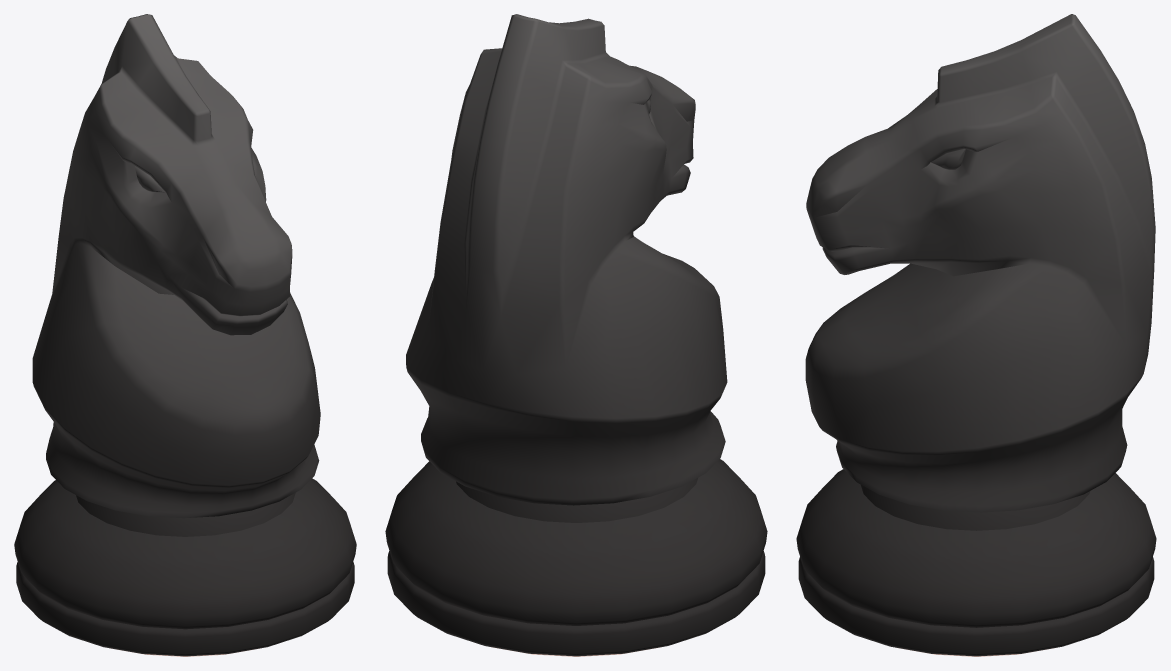
The model's file is Chess_Black_Hoss_01.fbx.
3 views of the same model, side by side, from view 1: azimuth 30°, elevation 25°; view 2: azimuth 150°, elevation 25°; view 3: azimuth 270°, elevation 25° (orthographic). The views are drawn at different scales.
Visible parts, largest first — view 1: Chess_Black_Hoss_01; view 2: Chess_Black_Hoss_01; view 3: Chess_Black_Hoss_01.
Boxes of the visible parts, x1,y1,x2,y2 form: Chess_Black_Hoss_01: (14, 14, 356, 656); Chess_Black_Hoss_01: (385, 14, 767, 656); Chess_Black_Hoss_01: (796, 14, 1156, 656).
Size of the model in its own units: 3.68 by 6.44 by 3.68.
